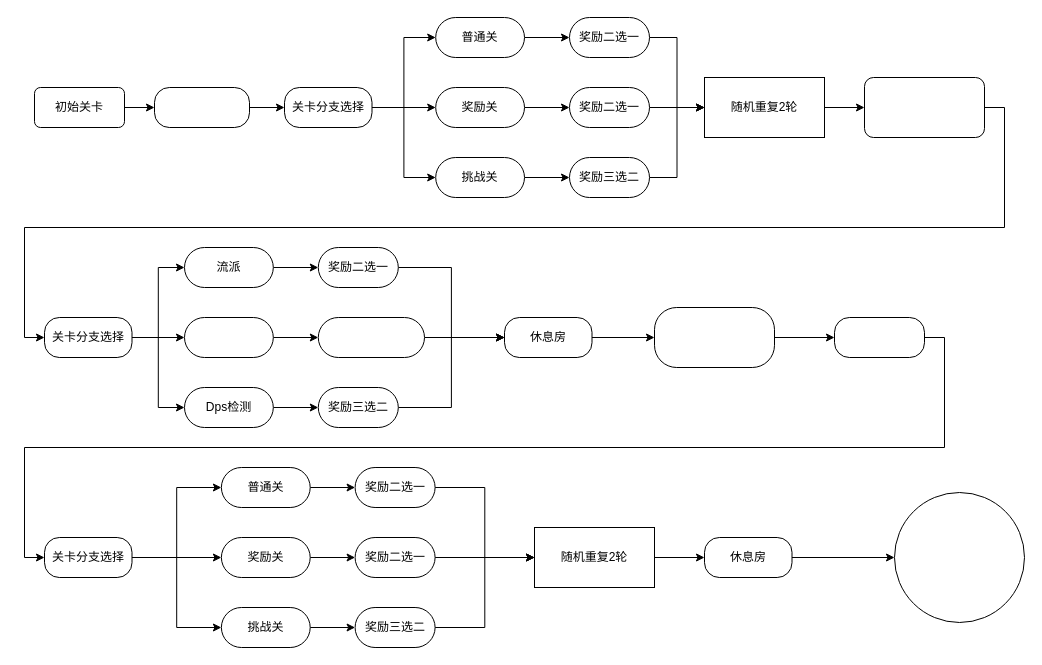
Image size: 1042x665. Some labels were removed from this diagram. The centre of each missing label's shape, as x and y in pixels:
"可以指定选取 一个道具/天赋" goes at point (370, 337).
"商店房 素材交换和天赋售卖" goes at point (924, 107).
"天赋强化" goes at point (879, 337).
"奖励选择" goes at point (202, 107).
"挑战" goes at point (228, 337).
"第一大关 最终BOSS" goes at point (959, 557).
"道中Boss" goes at point (714, 337).
